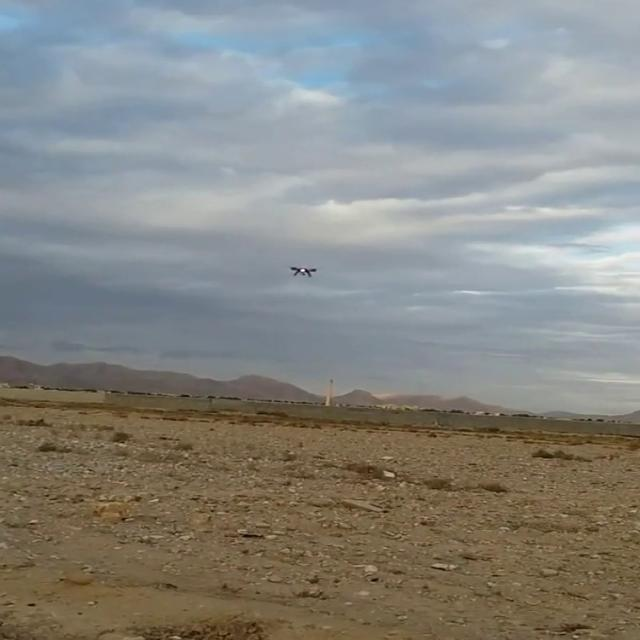drone: (284, 260, 323, 284)
